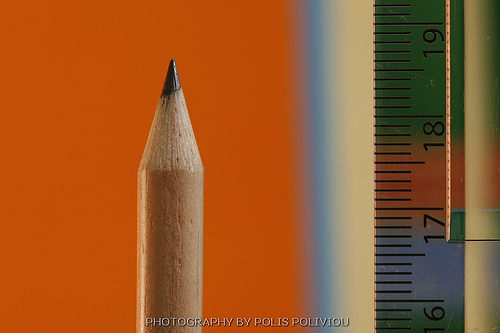pen_tip: (134, 51, 208, 202)
